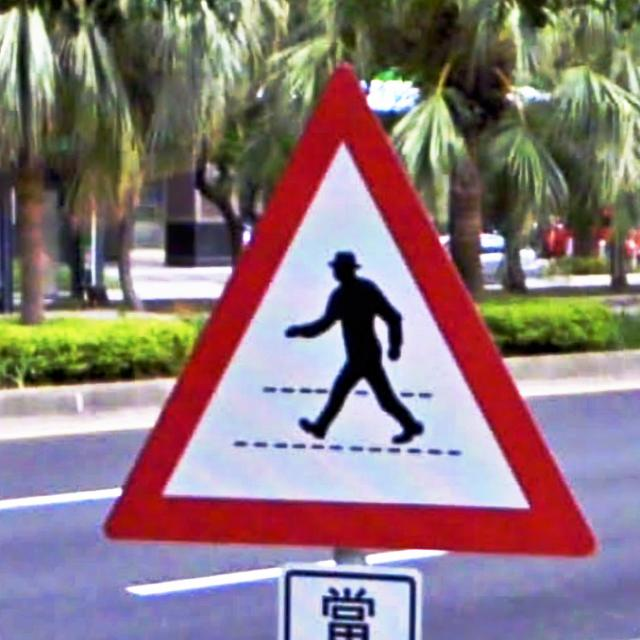pedestriancross: (103, 65, 600, 561)
